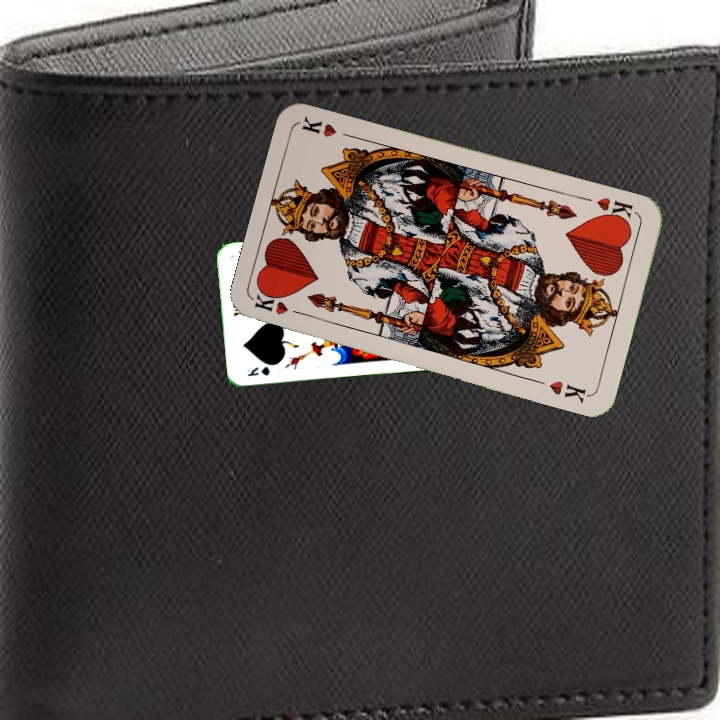GK: (243, 362, 272, 379)
HK: (252, 291, 311, 319), (592, 193, 639, 226)
